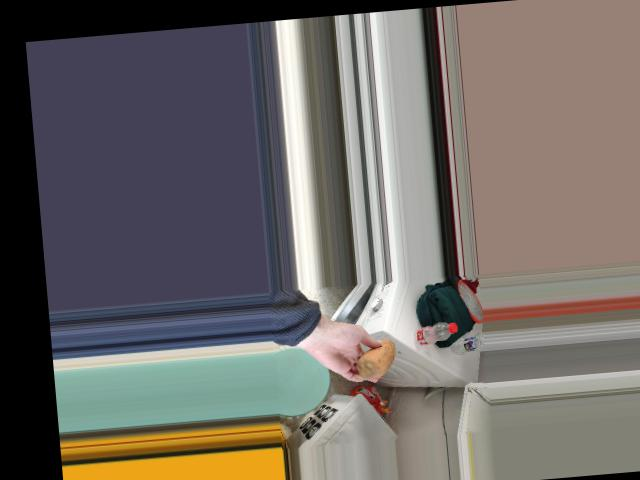sweet_potato: (349, 334, 397, 376)
